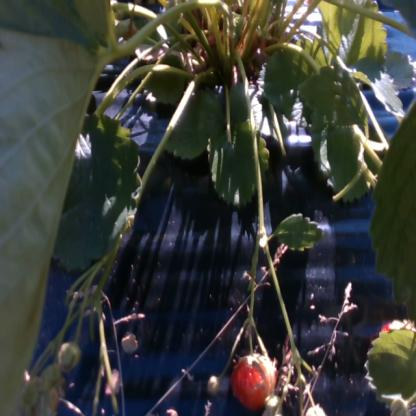ripe: (233, 350, 277, 410), (376, 315, 416, 368)
